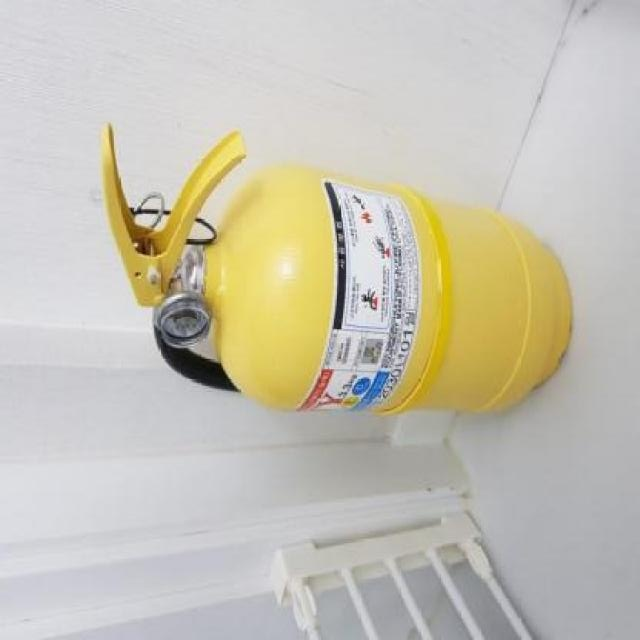fire extinguisher: (99, 121, 573, 414)
